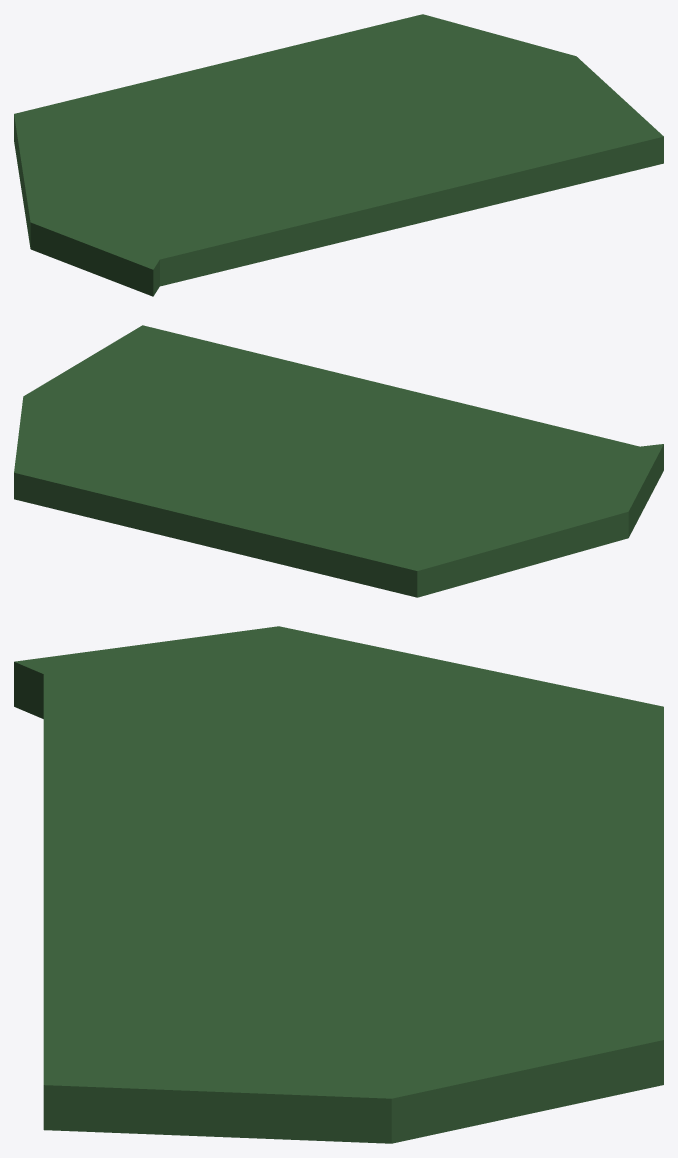
File: x_proval_00_176_1_rmstrd.fbx
3 renders of one model, top to bottom at view 1: azimuth 30°, elevation 25°; view 2: azimuth 150°, elevation 25°; view 3: azimuth 270°, elevation 25°, orthographic. The views are drawn at different scales.
Parts seen in each view (by area): view 1: x_proval_00_176_1_rmstrd1; view 2: x_proval_00_176_1_rmstrd1; view 3: x_proval_00_176_1_rmstrd1.
Boxes of the visible parts, x1,y1,x2,y2 form: x_proval_00_176_1_rmstrd1: [14, 14, 663, 296]; x_proval_00_176_1_rmstrd1: [14, 325, 663, 597]; x_proval_00_176_1_rmstrd1: [14, 626, 663, 1143].
Bounding box in the file's own units: 4.5 × 0.2 × 2.62.
